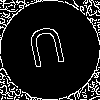U: (25, 25, 70, 78)
